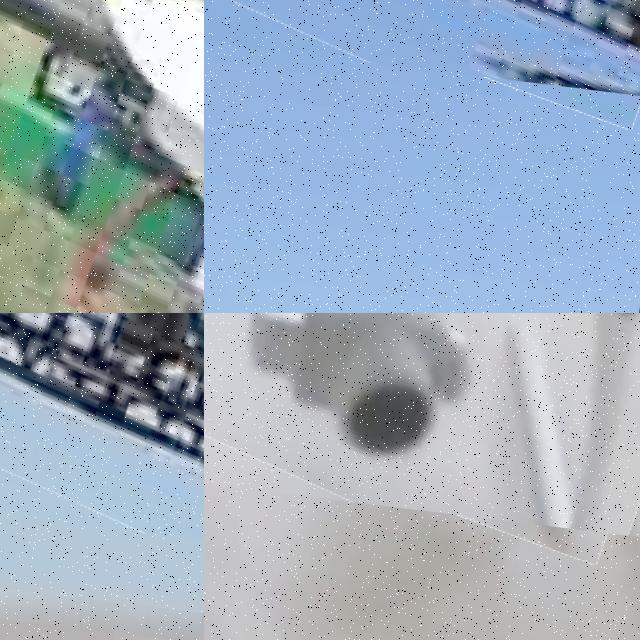0: (0, 0, 204, 313), (0, 313, 204, 571), (204, 0, 640, 98)
drone: (204, 313, 640, 538)
